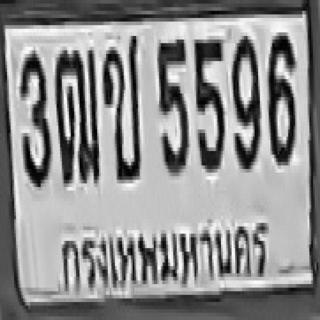A10: (101, 31, 140, 178)
A18: (54, 45, 98, 182)
N03: (18, 48, 49, 182)
N05: (156, 34, 187, 171), (193, 34, 223, 167)
N06: (268, 29, 294, 162)
N09: (230, 32, 258, 166)
P04: (59, 209, 275, 298)
